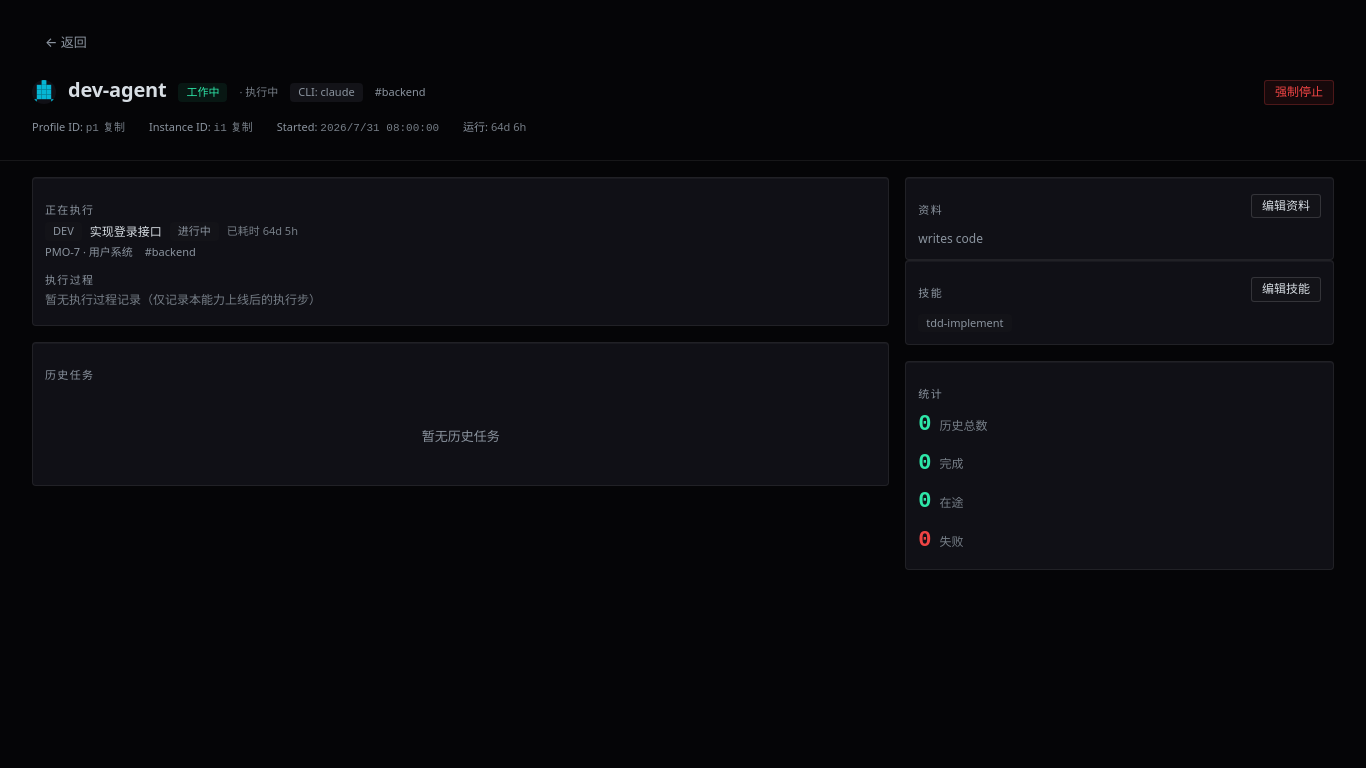
AgentDetailPage — 强制停止提交反馈（批次A 项7） › terminate 失败 → 关窗 + 页顶错误条透传服务端 error.message
Click the button "强制停止".
click(1299, 92)  # box [1264,80,1334,105]
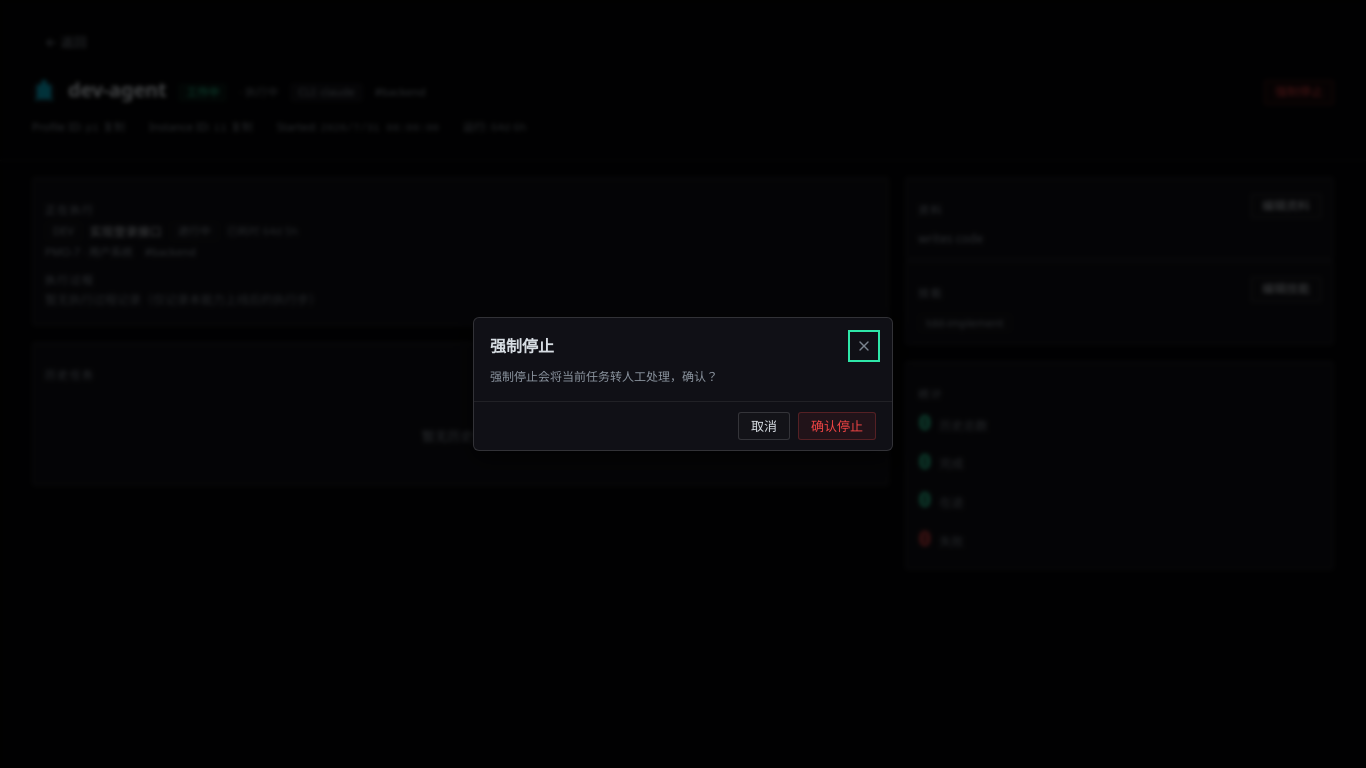
Click the button "确认停止".
click(837, 426)  # box [798,412,876,440]
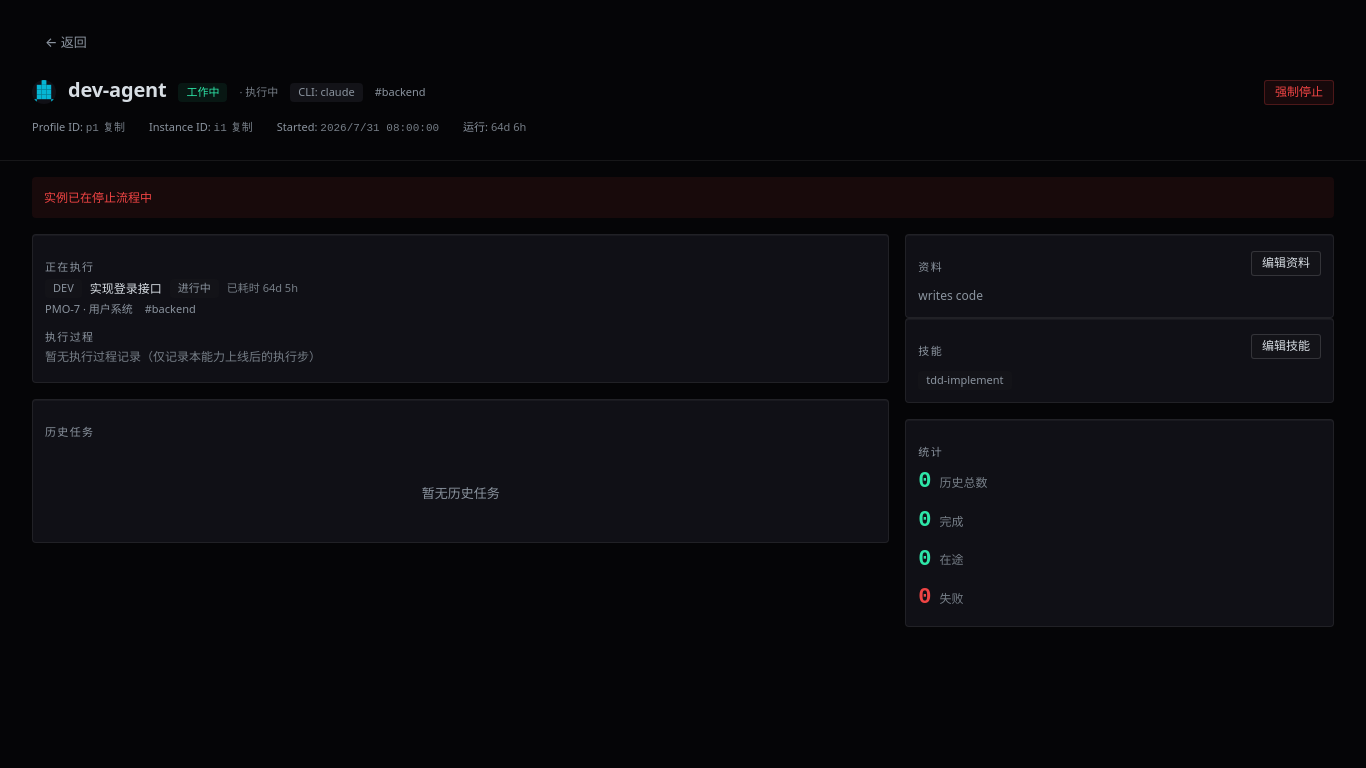
Now the text "实例已在停止流程中" is shown, box [32,177,1334,218]
Now the button "确认停止" is gone
